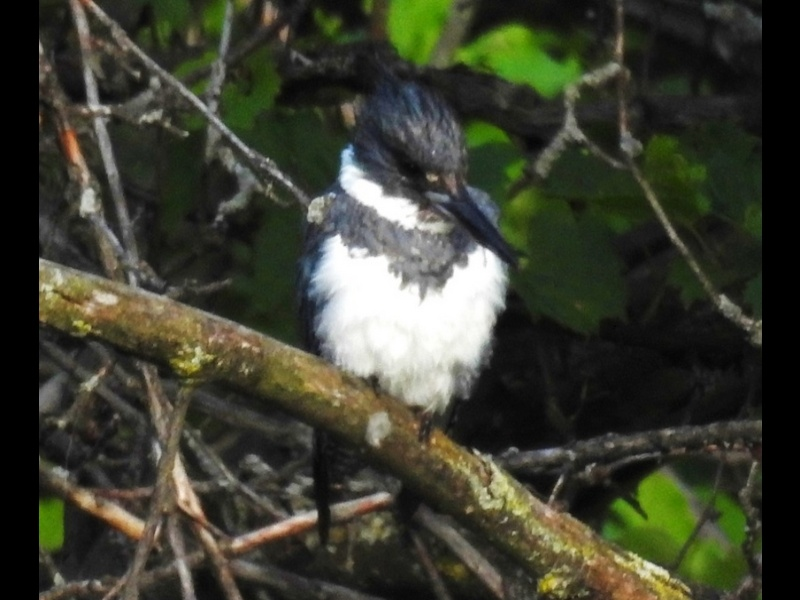kingfisher: (297, 75, 514, 454)
